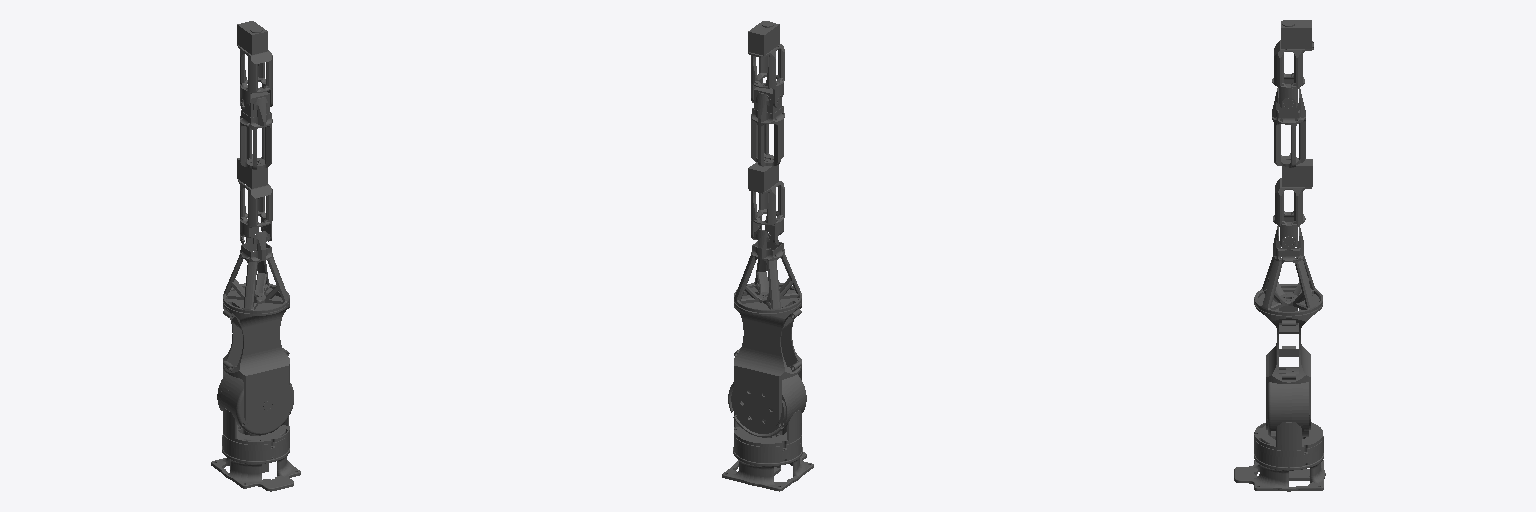
The robot description file, URDF, robot "dofarm_description":
<?xml version="1.0" encoding="utf-8"?>
<!-- =================================================================================== -->
<!-- |    This document was autogenerated by xacro from robot.xacro                    | -->
<!-- |    EDITING THIS FILE BY HAND IS NOT RECOMMENDED                                 | -->
<!-- =================================================================================== -->
<robot name="dofarm_description">
  <material name="black">
    <color rgba="0.0 0.0 0.0 1.0"/>
  </material>
  <material name="blue">
    <color rgba="0.0 0.0 0.8 1.0"/>
  </material>
  <material name="green">
    <color rgba="0.0 0.8 0.0 1.0"/>
  </material>
  <material name="grey">
    <color rgba="0.2 0.2 0.2 1.0"/>
  </material>
  <material name="silver">
    <color rgba="0.913725490196 0.913725490196 0.847058823529 1.0"/>
  </material>
  <material name="orange">
    <color rgba="1.0 0.423529411765 0.0392156862745 1.0"/>
  </material>
  <material name="brown">
    <color rgba="0.870588235294 0.811764705882 0.764705882353 1.0"/>
  </material>
  <material name="red">
    <color rgba="0.8 0.0 0.0 1.0"/>
  </material>
  <material name="white">
    <color rgba="1.0 1.0 1.0 1.0"/>
  </material>
  
    <material name="interbotix_black">
    <color rgba="0.4 0.4 0.4 1"/>
  </material>

 <link name="base">
    <visual>
      <origin rpy="1.57 0 -3.14" xyz="0 0 0"/>
      <geometry>
        <mesh filename="package://dofarm/base.STL" scale="0.001 0.001 0.001"/>
      </geometry>
      <material name="interbotix_black"/>
    </visual>
    <collision>
      <origin rpy="1.57 0 -3.14" xyz="0 0 0"/>
      <geometry>
        <mesh filename="package://dofarm/base.STL" scale="0.001 0.001 0.001"/>
      </geometry>
    </collision>
    <inertial> 
            <mass value="0.1"/>
            <inertia ixx="0" ixy="0" ixz="0" iyy="0" iyz="0" izz="0"/>
        </inertial> 
        <contact> 
            <lateral_friction value="1"/>
        </contact>
  </link>

 <link name="waist">
    <visual>
      <origin rpy="0 0 0" xyz="0 0 0"/>
      <geometry>
        <mesh filename="package://dofarm/waist.stl" scale="0.001 0.001 0.001"/>
      </geometry>
      <material name="interbotix_black"/>
    </visual>
    <collision>
      <origin rpy="0 0 0" xyz="0 0 0"/>
      <geometry>
        <mesh filename="package://dofarm/waist.stl" scale="0.001 0.001 0.001"/>
      </geometry>
    </collision>
    <inertial> 
            <mass value="0.1"/>
            <inertia ixx="0" ixy="0" ixz="0" iyy="0" iyz="0" izz="0"/>
        </inertial> 
        <contact> 
            <lateral_friction value="1"/>
        </contact>
  </link>

  <joint name="base_waist" type="revolute">
    <origin rpy="0 0 0" xyz="-0.055 0.082 0.054"/>
    <parent link="base"/>
    <child link="waist"/>
    <axis xyz="0 0 1"/>
    <dynamics damping="0" friction="0"/>
    <limit effort="100" lower="-3.14" upper="3.14" velocity="20"/>
  </joint>

 <link name="shoulder">
    <visual>
      <origin rpy="0 0 0" xyz="0 0 0"/>
      <geometry>
        <mesh filename="package://dofarm/shoulder.stl" scale="0.001 0.001 0.001"/>
      </geometry>
      <material name="interbotix_black"/>
    </visual>
    <collision>
      <origin rpy="0 0 0" xyz="0 0 0"/>
      <geometry>
        <mesh filename="package://dofarm/shoulder.stl" scale="0.001 0.001 0.001"/>
      </geometry>
    </collision>
    <inertial> 
            <mass value="0.1"/>
            <inertia ixx="0" ixy="0" ixz="0" iyy="0" iyz="0" izz="0"/>
        </inertial> 
        <contact> 
            <lateral_friction value="1"/>
        </contact>
  </link>

  <joint name="waist_shoulder" type="revolute">
    <origin rpy="0 0 -1.57" xyz="0 0 0.07"/>
    <parent link="waist"/>
    <child link="shoulder"/>
    <axis xyz="1 0 0"/>
    <dynamics damping="0" friction="0"/>
    <limit effort="100" lower="-3.14" upper="3.14" velocity="20"/>
  </joint>

 <link name="arm">
    <visual>
      <origin rpy="0 0 0" xyz="0 0 0"/>
      <geometry>
        <mesh filename="package://dofarm/arm.stl" scale="0.001 0.001 0.001"/>
      </geometry>
      <material name="interbotix_black"/>
    </visual>
    <collision>
      <origin rpy="0 0 0" xyz="0 0 0"/>
      <geometry>
        <mesh filename="package://dofarm/arm.stl" scale="0.001 0.001 0.001"/>
      </geometry>
    </collision>
    <inertial> 
            <mass value="0.1"/>
            <inertia ixx="0" ixy="0" ixz="0" iyy="0" iyz="0" izz="0"/>
        </inertial> 
        <contact> 
            <lateral_friction value="1"/>
        </contact>
  </link>

  <joint name="shoulder_arm" type="revolute">
    <origin rpy="0 0 0" xyz="0 0 0.168"/>
    <parent link="shoulder"/>
    <child link="arm"/>
    <axis xyz="0 0 1"/>
    <dynamics damping="0" friction="0"/>
    <limit effort="100" lower="-3.14" upper="3.14" velocity="20"/>
  </joint>

 <link name="forearm">
    <visual>
      <origin rpy="0 0 0" xyz="0 0 0"/>
      <geometry>
        <mesh filename="package://dofarm/forearm.stl" scale="0.001 0.001 0.001"/>
      </geometry>
      <material name="interbotix_black"/>
    </visual>
    <collision>
      <origin rpy="0 0 0" xyz="0 0 0"/>
      <geometry>
        <mesh filename="package://dofarm/forearm.stl" scale="0.001 0.001 0.001"/>
      </geometry>
    </collision>
    <inertial> 
            <mass value="0.1"/>
            <inertia ixx="0" ixy="0" ixz="0" iyy="0" iyz="0" izz="0"/>
        </inertial> 
        <contact> 
            <lateral_friction value="1"/>
        </contact>
  </link>

  <joint name="arm_forearm" type="revolute">
    <origin rpy="0 0 0" xyz="0 0 0.11"/>
    <parent link="arm"/>
    <child link="forearm"/>
    <axis xyz="0 1 0"/>
    <dynamics damping="0" friction="0"/>
    <limit effort="100" lower="-3.14" upper="3.14" velocity="20"/>
  </joint>

 <link name="wrist">
    <visual>
      <origin rpy="0 0 0" xyz="0 0 0"/>
      <geometry>
        <mesh filename="package://dofarm/wrist.stl" scale="0.001 0.001 0.001"/>
      </geometry>
      <material name="interbotix_black"/>
    </visual>
    <collision>
      <origin rpy="0 0 0" xyz="0 0 0"/>
      <geometry>
        <mesh filename="package://dofarm/wrist.stl" scale="0.001 0.001 0.001"/>
      </geometry>
    </collision>
    <inertial> 
            <mass value="0.1"/>
            <inertia ixx="0" ixy="0" ixz="0" iyy="0" iyz="0" izz="0"/>
        </inertial> 
        <contact> 
            <lateral_friction value="1"/>
        </contact>
  </link>

  <joint name="forearm_wrist" type="revolute">
    <origin rpy="0 0 0" xyz="0 0 0.12"/>
    <parent link="forearm"/>
    <child link="wrist"/>
    <axis xyz="0 0 1"/>
    <dynamics damping="0" friction="0"/>
    <limit effort="100" lower="-3.14" upper="3.14" velocity="20"/>
  </joint>

 <link name="wrist2">
    <visual>
      <origin rpy="0 0 0" xyz="0 0 0"/>
      <geometry>
        <mesh filename="package://dofarm/wrist2.stl" scale="0.001 0.001 0.001"/>
      </geometry>
      <material name="interbotix_black"/>
    </visual>
    <collision>
      <origin rpy="0 0 0" xyz="0 0 0"/>
      <geometry>
        <mesh filename="package://dofarm/wrist2.stl" scale="0.001 0.001 0.001"/>
      </geometry>
    </collision>
    <inertial> 
            <mass value="0.1"/>
            <inertia ixx="0" ixy="0" ixz="0" iyy="0" iyz="0" izz="0"/>
        </inertial> 
        <contact> 
            <lateral_friction value="1"/>
        </contact>
  </link>

  <joint name="wrist_wrist2" type="revolute">
    <origin rpy="0 0 -1.57" xyz="0 0 0.11"/>
    <parent link="wrist"/>
    <child link="wrist2"/>
    <axis xyz="1 0 0"/>
    <dynamics damping="0" friction="0"/>
    <limit effort="100" lower="-3.14" upper="3.14" velocity="20"/>
  </joint>

</robot>

--- What the picture shows (computed from the rendered views, not written in the file) ---
The picture shows the robot from 3 angles, left to right: view 1: azimuth 30°, elevation 25°; view 2: azimuth 150°, elevation 25°; view 3: azimuth 270°, elevation 25°; orthographic projection.
Robot: dofarm_description — 7 links, 6 joints (6 revolute); root link base; default pose: every joint at zero.
Links seen in each view (by area): view 1: shoulder, arm, base, waist, wrist2, wrist, forearm; view 2: shoulder, arm, base, waist, wrist2, forearm, wrist; view 3: waist, base, arm, shoulder, wrist2, forearm, wrist.
Boxes of the visible links, x1,y1,x2,y2 form: shoulder: [223, 288, 289, 430]; arm: [223, 227, 289, 313]; base: [211, 432, 300, 491]; waist: [217, 366, 293, 444]; wrist2: [237, 21, 272, 109]; wrist: [240, 87, 272, 169]; forearm: [237, 154, 272, 243]; shoulder: [734, 287, 801, 431]; arm: [734, 225, 801, 312]; base: [722, 434, 813, 491]; waist: [728, 367, 806, 446]; wrist2: [748, 21, 784, 108]; forearm: [748, 159, 784, 244]; wrist: [751, 83, 784, 166]; waist: [1254, 367, 1322, 450]; base: [1234, 436, 1325, 491]; arm: [1254, 226, 1322, 315]; shoulder: [1254, 288, 1322, 429]; wrist2: [1272, 20, 1313, 111]; forearm: [1273, 159, 1312, 249]; wrist: [1272, 88, 1305, 167].
Size in the robot's own frame: 0.1106 by 0.1379 by 0.7551 metres.
7 mesh visuals loaded from 7 distinct referenced files (7 binary STL).